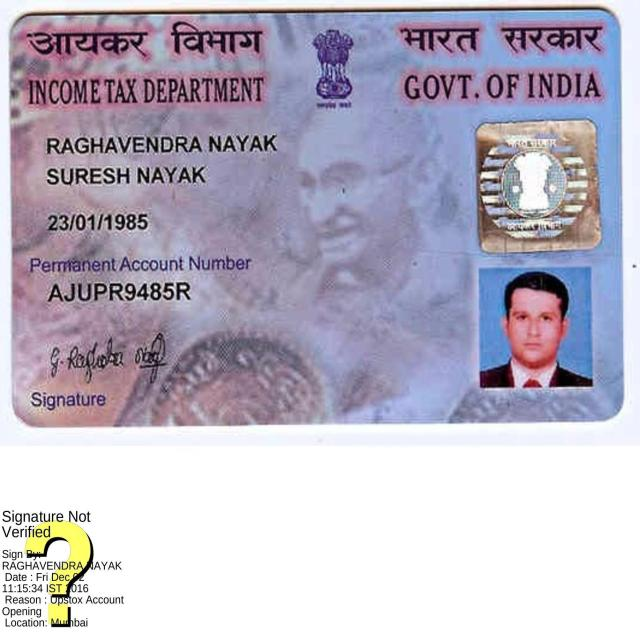pan_card: (10, 13, 622, 427)
